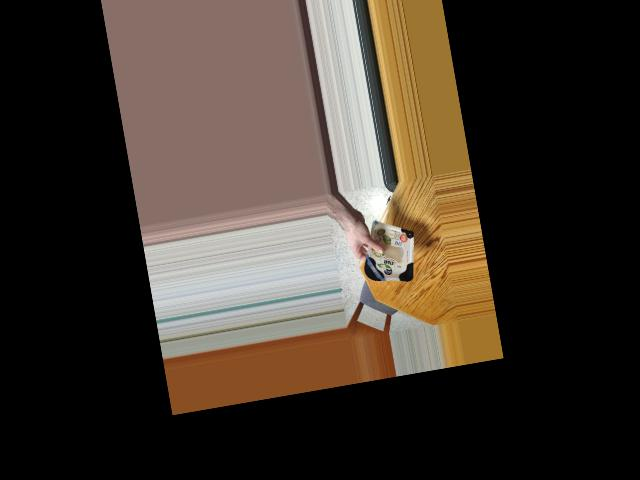cheese: (359, 225, 420, 286)
